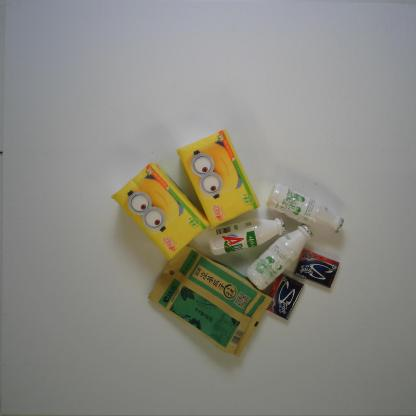Dried Food: (146, 245, 274, 359)
Gum: (293, 249, 340, 289), (265, 274, 305, 320)
Milk: (244, 222, 314, 291), (264, 182, 344, 234), (207, 216, 286, 257)
Tissue: (110, 161, 210, 262), (176, 128, 261, 230)
